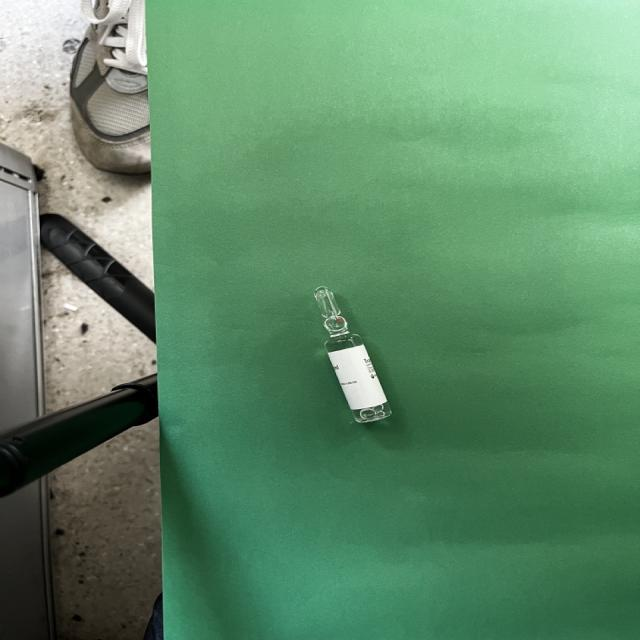Ampoules: (313, 286, 392, 424)
